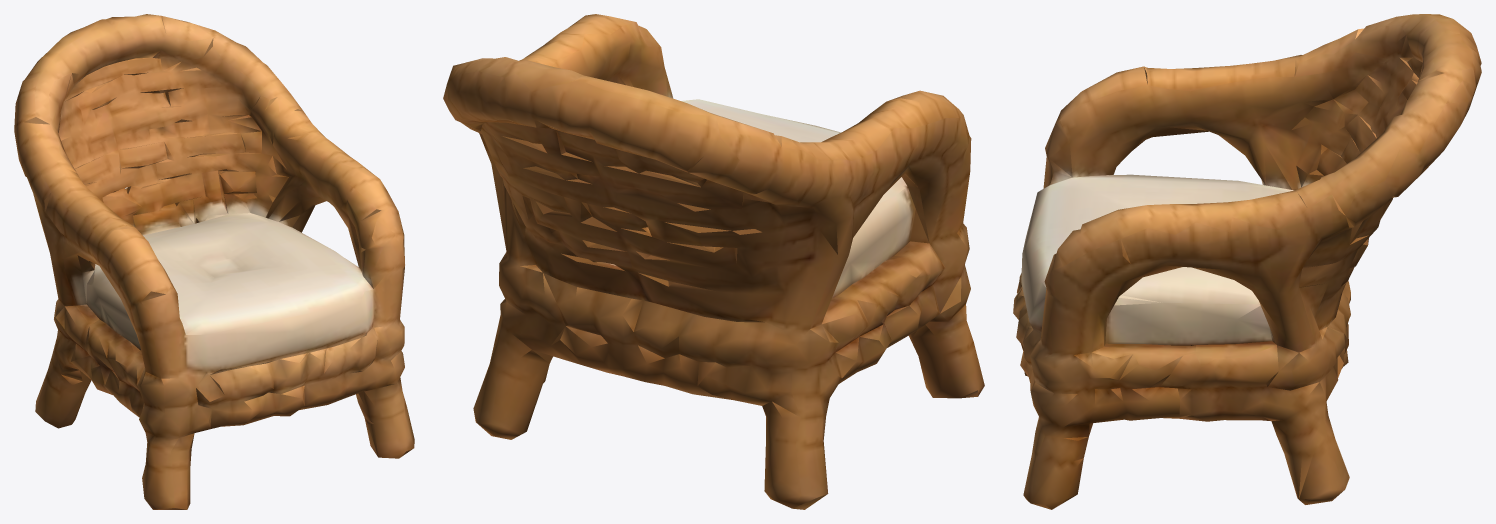
File: chair13.glb
The picture shows the model from 3 angles, left to right: view 1: azimuth 30°, elevation 25°; view 2: azimuth 150°, elevation 25°; view 3: azimuth 270°, elevation 25°; orthographic projection. The views are drawn at different scales.
Size of the model in its own units: 0.1675 by 0.1933 by 0.2066.
1 material, 1 textured.
